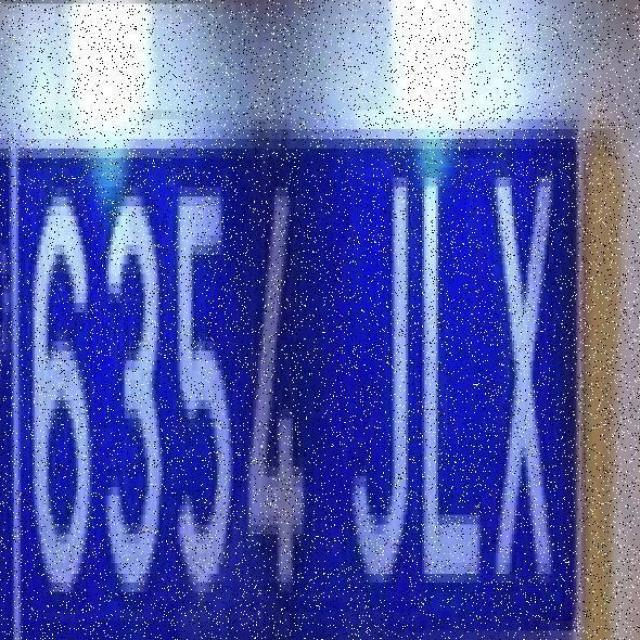license-plate: (3, 158, 603, 640)
